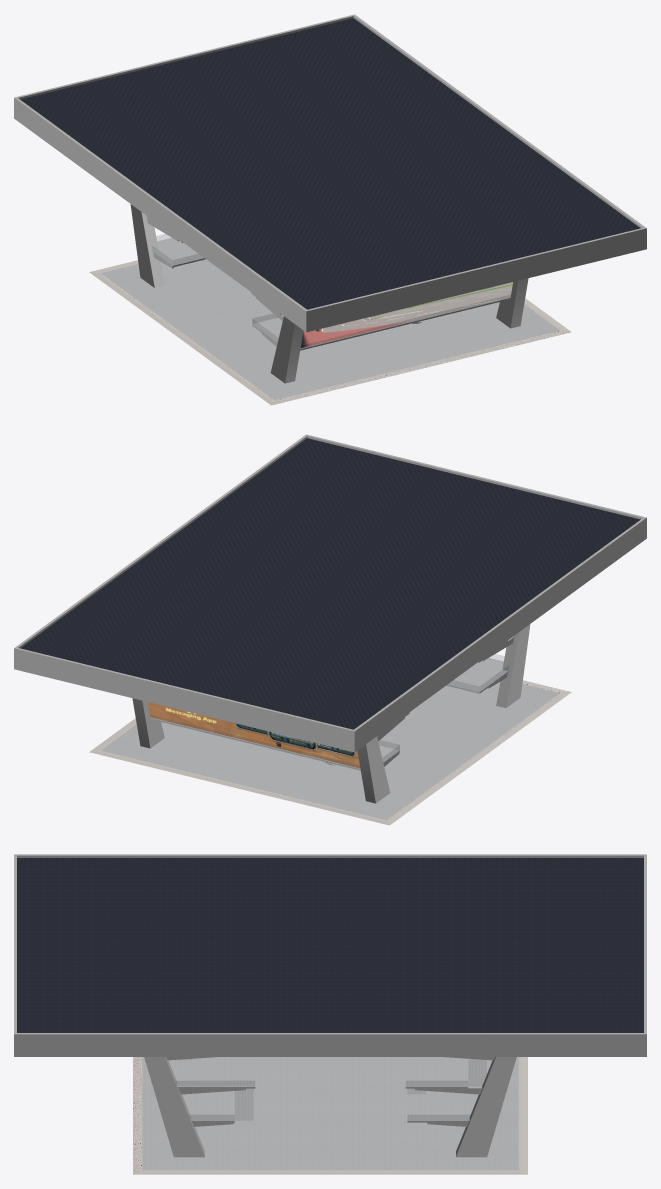
File: hall.glb
3 views of the same model, one above another, from view 1: azimuth 30°, elevation 25°; view 2: azimuth 150°, elevation 25°; view 3: azimuth 270°, elevation 25° (orthographic). The views are drawn at different scales.
Parts seen in each view (by area): view 1: hall; view 2: hall; view 3: hall.
Boxes of the visible parts, x1,y1,x2,y2 form: hall: [14, 14, 646, 405]; hall: [14, 434, 646, 825]; hall: [14, 854, 646, 1174].
Bounding box in the file's own units: 68 × 26.55 × 101.
Materials: 8 (6 with a texture image).
